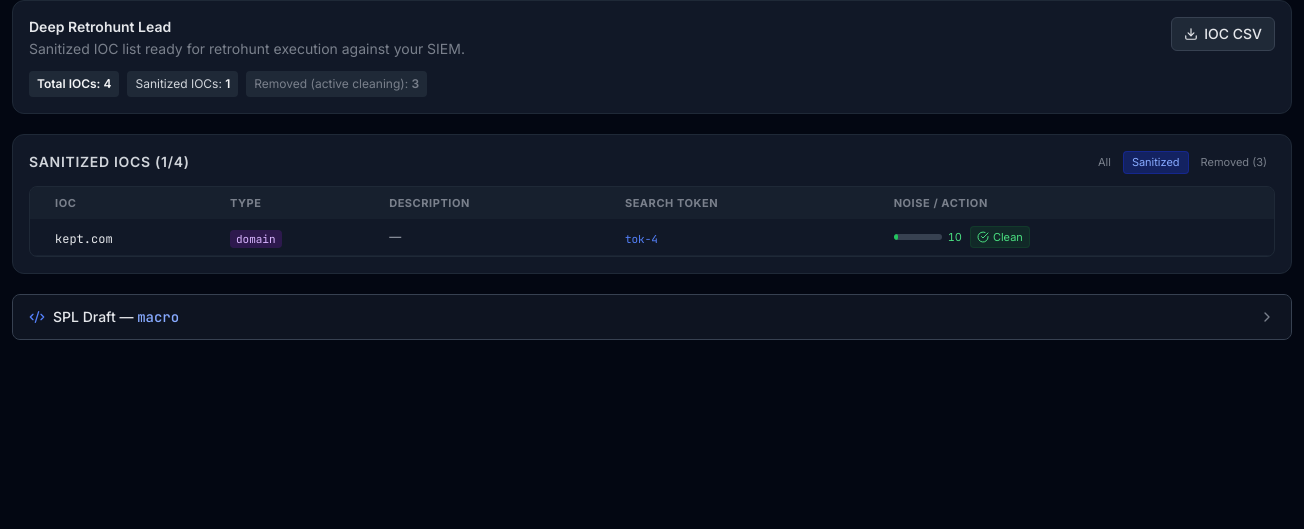
Test: RetrohuntPanel — removal-reason dedupe (issue-local-022 item 6) › still shows a reason unique to one IOC inline on that row, not just in the summary
Click the button "Removed (3)": (1234, 162) left=1193, top=151, right=1275, bottom=174
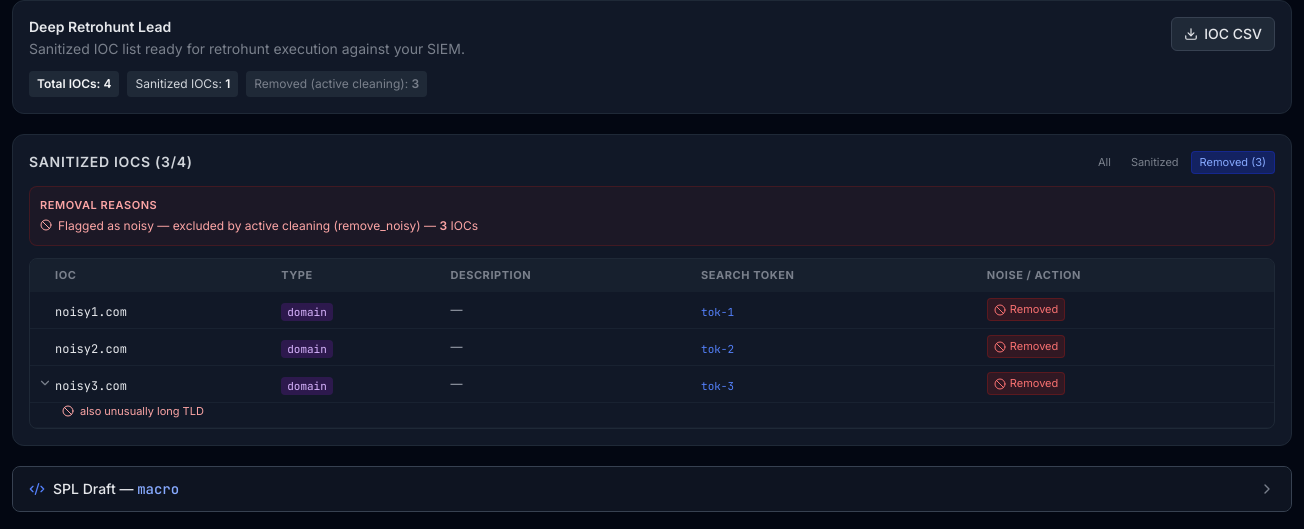
Expected: the list item "also unusually long TLD" is shown, left=62, top=404, right=204, bottom=418
